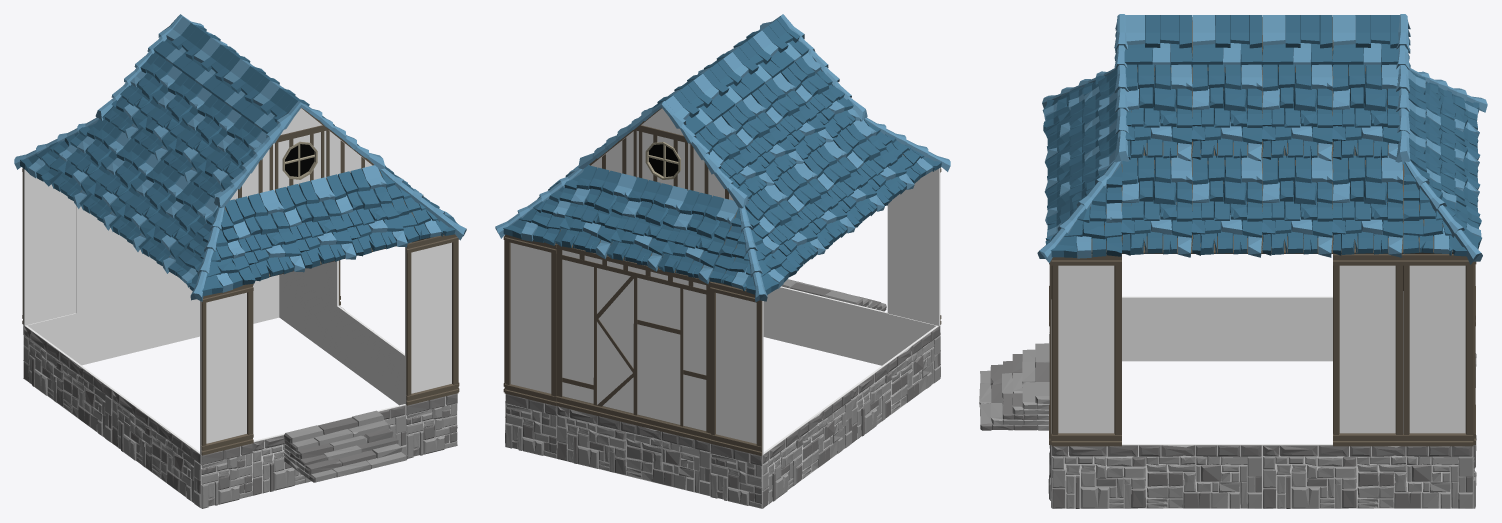
The model's file is house_07_parts.fbx.
3 views of the same model, side by side, from view 1: azimuth 30°, elevation 25°; view 2: azimuth 150°, elevation 25°; view 3: azimuth 270°, elevation 25° (orthographic). The views are drawn at different scales.
Parts seen in each view (by area): view 1: WALL_03_3, WALL_03_4, WALL_03_9, FOUNDATION_02_23, WALL_05_2, STAIRS_04_3, FOUNDATION_02_22, FOUNDATION_02_21, FOUNDATION_02_24, ROOF_base_24, ROOF_base_12, ROOF_base_21 (+29 smaller); view 2: WALL_05_2, WALL_03_9, WALL_03_8, FOUNDATION_02_23, WALL_03_4, FOUNDATION_02_20, FOUNDATION_02_22, FOUNDATION_02_21, ROOF_base_22, ROOF_base_11, ROOF_base_23, ROOF_corner_out_4 (+25 smaller); view 3: WALL_03_7, FOUNDATION_02_25, WALL_03_5, WALL_03_6, FOUNDATION_02_24, FOUNDATION_02_21, ROOF_base_8, ROOF_base_6, ROOF_base_10, ROOF_base_3, ROOF_base_7, ROOF_base_5 (+20 smaller).
Boxes of the visible parts, <box> form: WALL_03_3: <box>405,234,458,405</box>; WALL_03_4: <box>200,283,253,455</box>; WALL_03_9: <box>22,168,75,325</box>; FOUNDATION_02_23: <box>76,286,199,365</box>; WALL_05_2: <box>76,206,187,313</box>; STAIRS_04_3: <box>283,410,407,482</box>; FOUNDATION_02_22: <box>23,325,113,442</box>; FOUNDATION_02_21: <box>112,389,201,507</box>; FOUNDATION_02_24: <box>279,272,367,380</box>; ROOF_base_24: <box>275,177,356,268</box>; ROOF_base_12: <box>326,165,407,256</box>; ROOF_base_21: <box>225,189,305,281</box>; WALL_05_2: <box>556,244,710,443</box>; WALL_03_9: <box>710,281,763,455</box>; WALL_03_8: <box>504,234,556,405</box>; FOUNDATION_02_23: <box>557,406,710,496</box>; WALL_03_4: <box>887,168,941,325</box>; FOUNDATION_02_20: <box>763,286,887,365</box>; FOUNDATION_02_22: <box>762,390,852,508</box>; FOUNDATION_02_21: <box>849,325,940,442</box>; ROOF_base_22: <box>658,190,738,283</box>; ROOF_base_11: <box>555,165,636,259</box>; ROOF_base_23: <box>606,177,687,271</box>; ROOF_corner_out_4: <box>709,206,797,302</box>; WALL_03_7: <box>1403,254,1473,446</box>; FOUNDATION_02_25: <box>1051,444,1262,508</box>; WALL_03_5: <box>1051,254,1121,446</box>; WALL_03_6: <box>1333,254,1402,446</box>; FOUNDATION_02_24: <box>1262,444,1473,508</box>; FOUNDATION_02_21: <box>1122,296,1262,361</box>; ROOF_base_8: <box>1191,155,1262,257</box>; ROOF_base_6: <box>1262,155,1332,257</box>; ROOF_base_10: <box>1121,155,1192,257</box>; ROOF_base_3: <box>1332,155,1403,257</box>; ROOF_base_7: <box>1191,64,1262,161</box>; ROOF_base_5: <box>1262,64,1332,161</box>.
Size of the model in its own units: 541 by 660 by 724.
